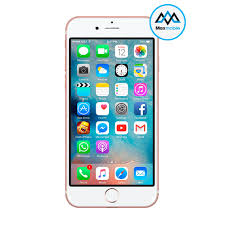iphone: (60, 13, 160, 211)
iphone7: (61, 14, 161, 212)
